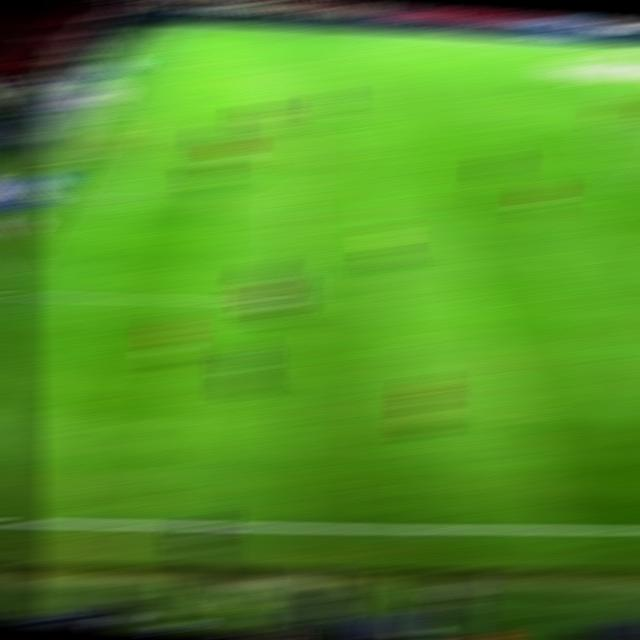bigarea_bottom_inner: (275, 294, 308, 309)
bigarea_top_inner: (277, 61, 310, 72)
bigarea_top_outter: (128, 57, 160, 65)
bottom_arc_area_intersection: (277, 184, 309, 198)
corner: (149, 23, 184, 31)
midline_top_intersection: (557, 40, 593, 53)
smallarea_bottom_inner: (117, 190, 156, 207)
smallarea_bottom_outter: (42, 190, 78, 202)
smallarea_top_inner: (159, 98, 189, 107)
smallarea_top_outter: (104, 96, 137, 105)
top_arc_area_intersection: (279, 108, 310, 119)
